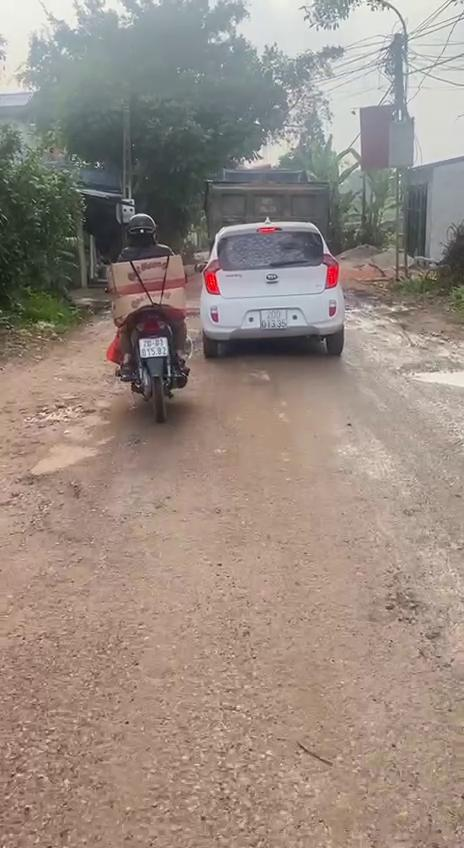pothole: (2, 469, 90, 531), (33, 396, 106, 426), (404, 362, 464, 393)
